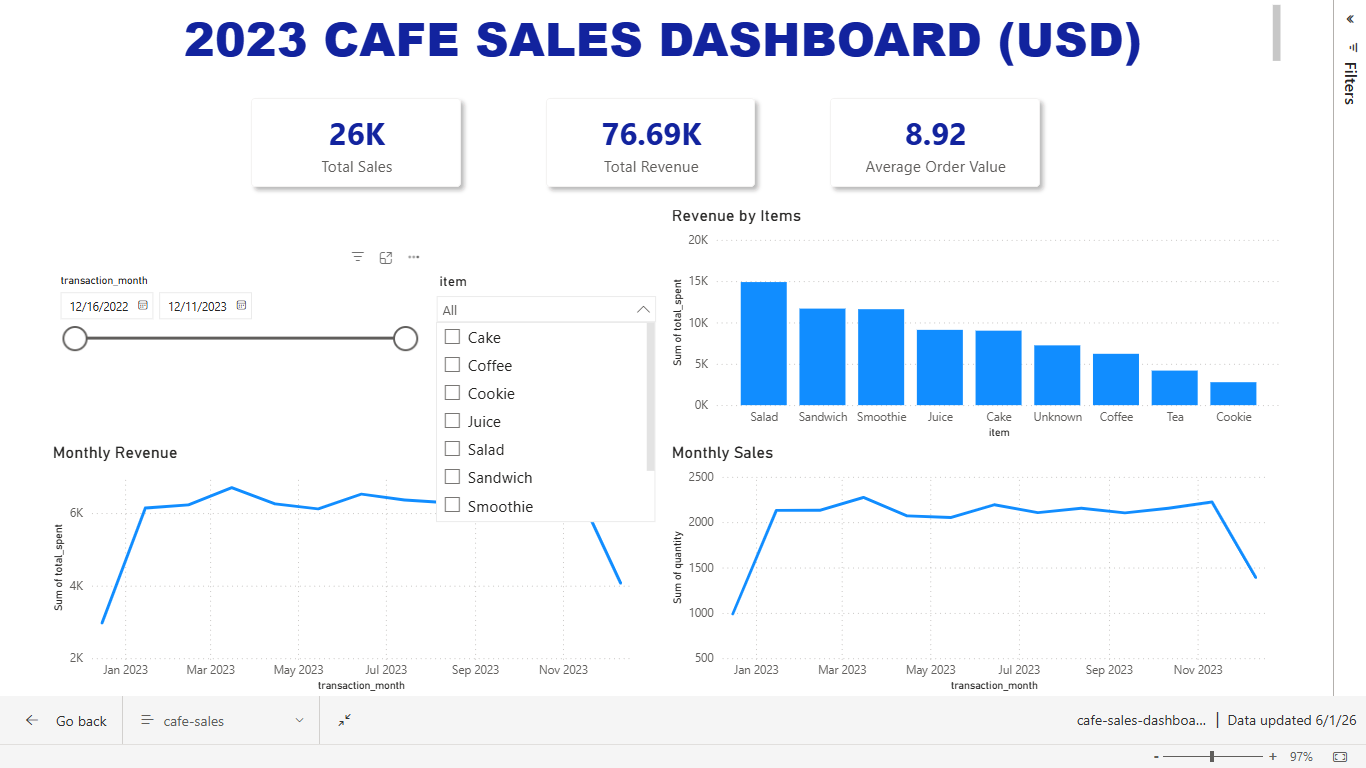

The page's visual inventory and layout, read from the dashboard file:
{"tool":"powerbi","page":{"name":"cafe-sales","canvas":[1280,720],"ordinal":0},"visuals":[{"type":"lineStackedColumnComboChart","title":"Revenue by Items","fields":{"Category":["clean-data.item"],"Y":["Sum(clean-data.total_spent)"]},"box":[640,213.3,640,245],"z":0},{"type":"lineChart","title":"Monthly Revenue","fields":{"Category":["clean-data.transaction_month"],"Y":["Sum(clean-data.total_spent)"]},"box":[0,458.3,623.3,261.7],"z":1000},{"type":"textbox","box":[0,0,1280,72.9],"z":2000},{"type":"slicer","fields":{"Values":["clean-data.transaction_month"]},"box":[0,278.3,391.7,130],"z":3000},{"type":"cardVisual","title":"Total Sales","fields":{"Data":["clean-data.Total Revenue"]},"box":[485.7,72.9,274.3,150],"z":4000},{"type":"cardVisual","title":"Total Sales","fields":{"Data":["clean-data.avg_revenue"]},"box":[780,72.9,275.7,150],"z":5000},{"type":"cardVisual","title":"Total Sales","fields":{"Data":["clean-data.Total Sales"]},"box":[181.4,72.9,275.7,150],"z":6000},{"type":"slicer","fields":{"Values":["clean-data.item"]},"box":[391.7,278.3,246.7,130],"z":7000},{"type":"lineChart","title":"Monthly Sales","fields":{"Y":["Sum(clean-data.Items Sold)"],"Category":["clean-data.transaction_month"]},"box":[640,458.3,640,261.7],"z":8000}]}

Visuals, with their boxes on the page's 1280x720 design canvas (x1, y1, x2, y2). These are canvas units, not pixel positions in the 1366x768 screenshot, which may show the page scaled, cropped or inside an application window:
"Revenue by Items" lineStackedColumnComboChart: [640,213,1280,458]
"Monthly Revenue" lineChart: [0,458,623,720]
textbox: [0,0,1280,73]
slicer - clean-data.transaction_month: [0,278,392,408]
"Total Sales" cardVisual: [486,73,760,223]
"Total Sales" cardVisual: [780,73,1056,223]
"Total Sales" cardVisual: [181,73,457,223]
slicer - clean-data.item: [392,278,638,408]
"Monthly Sales" lineChart: [640,458,1280,720]
